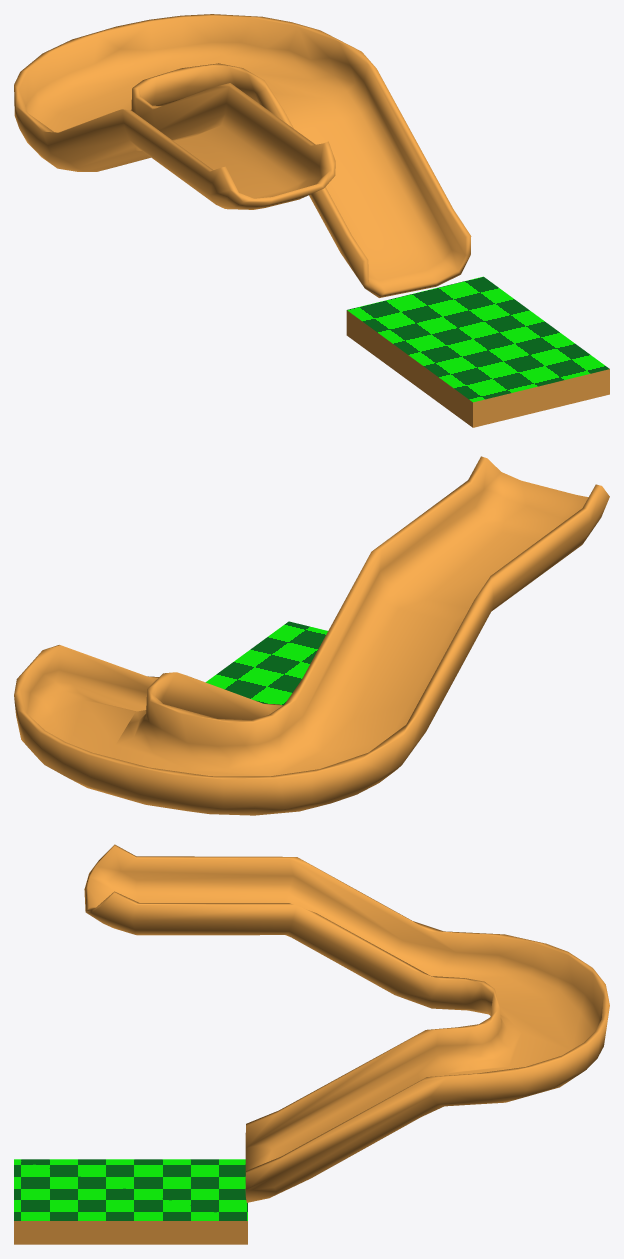
Rendered from halfpipe.glb.
3 renders of one model, top to bottom at view 1: azimuth 30°, elevation 25°; view 2: azimuth 150°, elevation 25°; view 3: azimuth 270°, elevation 25°, orthographic. The views are drawn at different scales.
Visible parts, largest first — view 1: BezierCurve.001, Cube; view 2: BezierCurve.001, Cube; view 3: BezierCurve.001, Cube.
Part boxes in pixels (x1,y1,x2,y2): BezierCurve.001: (14, 14, 471, 297); Cube: (346, 276, 609, 427); BezierCurve.001: (14, 456, 609, 815); Cube: (205, 621, 327, 705); BezierCurve.001: (84, 844, 609, 1202); Cube: (14, 1159, 247, 1244).
Size of the model in its own units: 27.57 by 21.11 by 45.84.
Materials: 2 (2 with a texture image).
